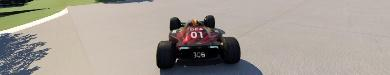Car: (155, 14, 240, 68)
